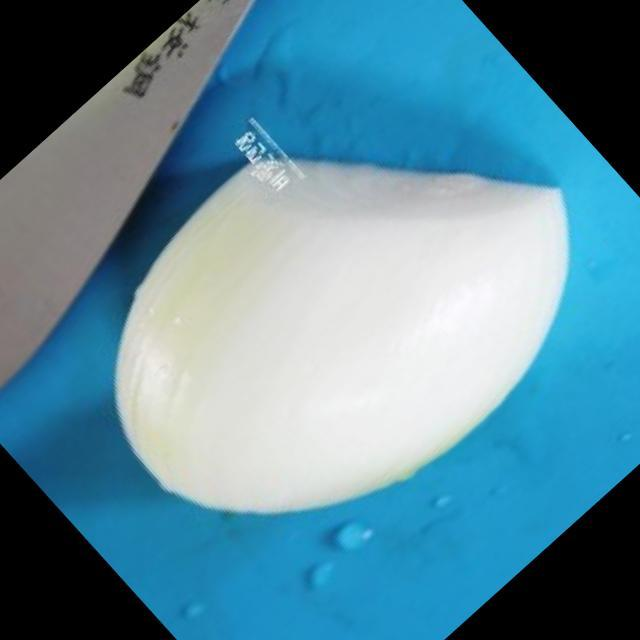Onion: (117, 157, 567, 518)
